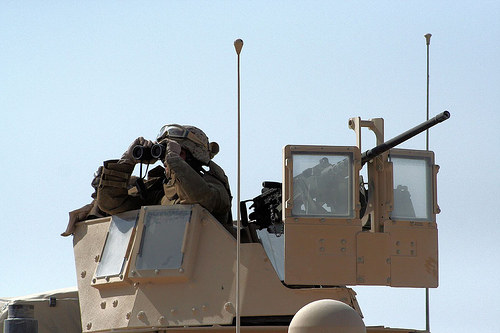rifle: (236, 103, 477, 241)
